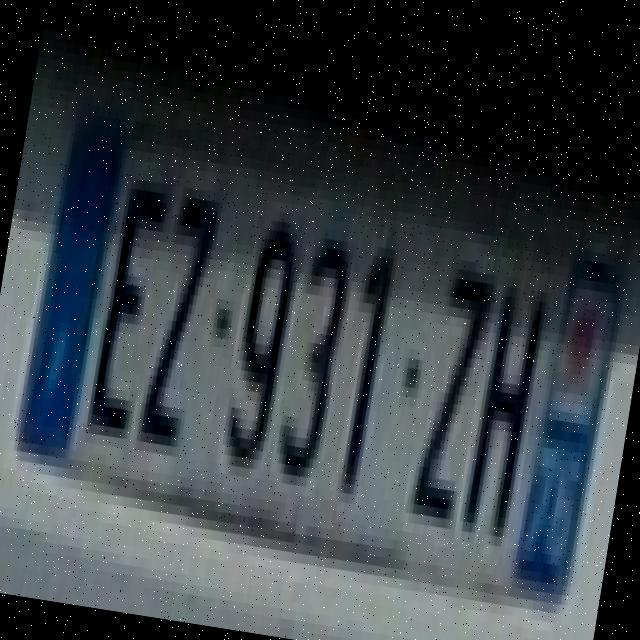Autre: (0, 95, 637, 640)
